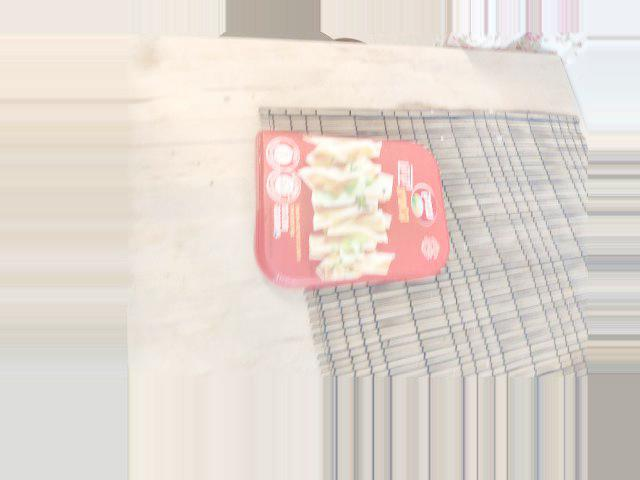cheese: (369, 157, 490, 354)
